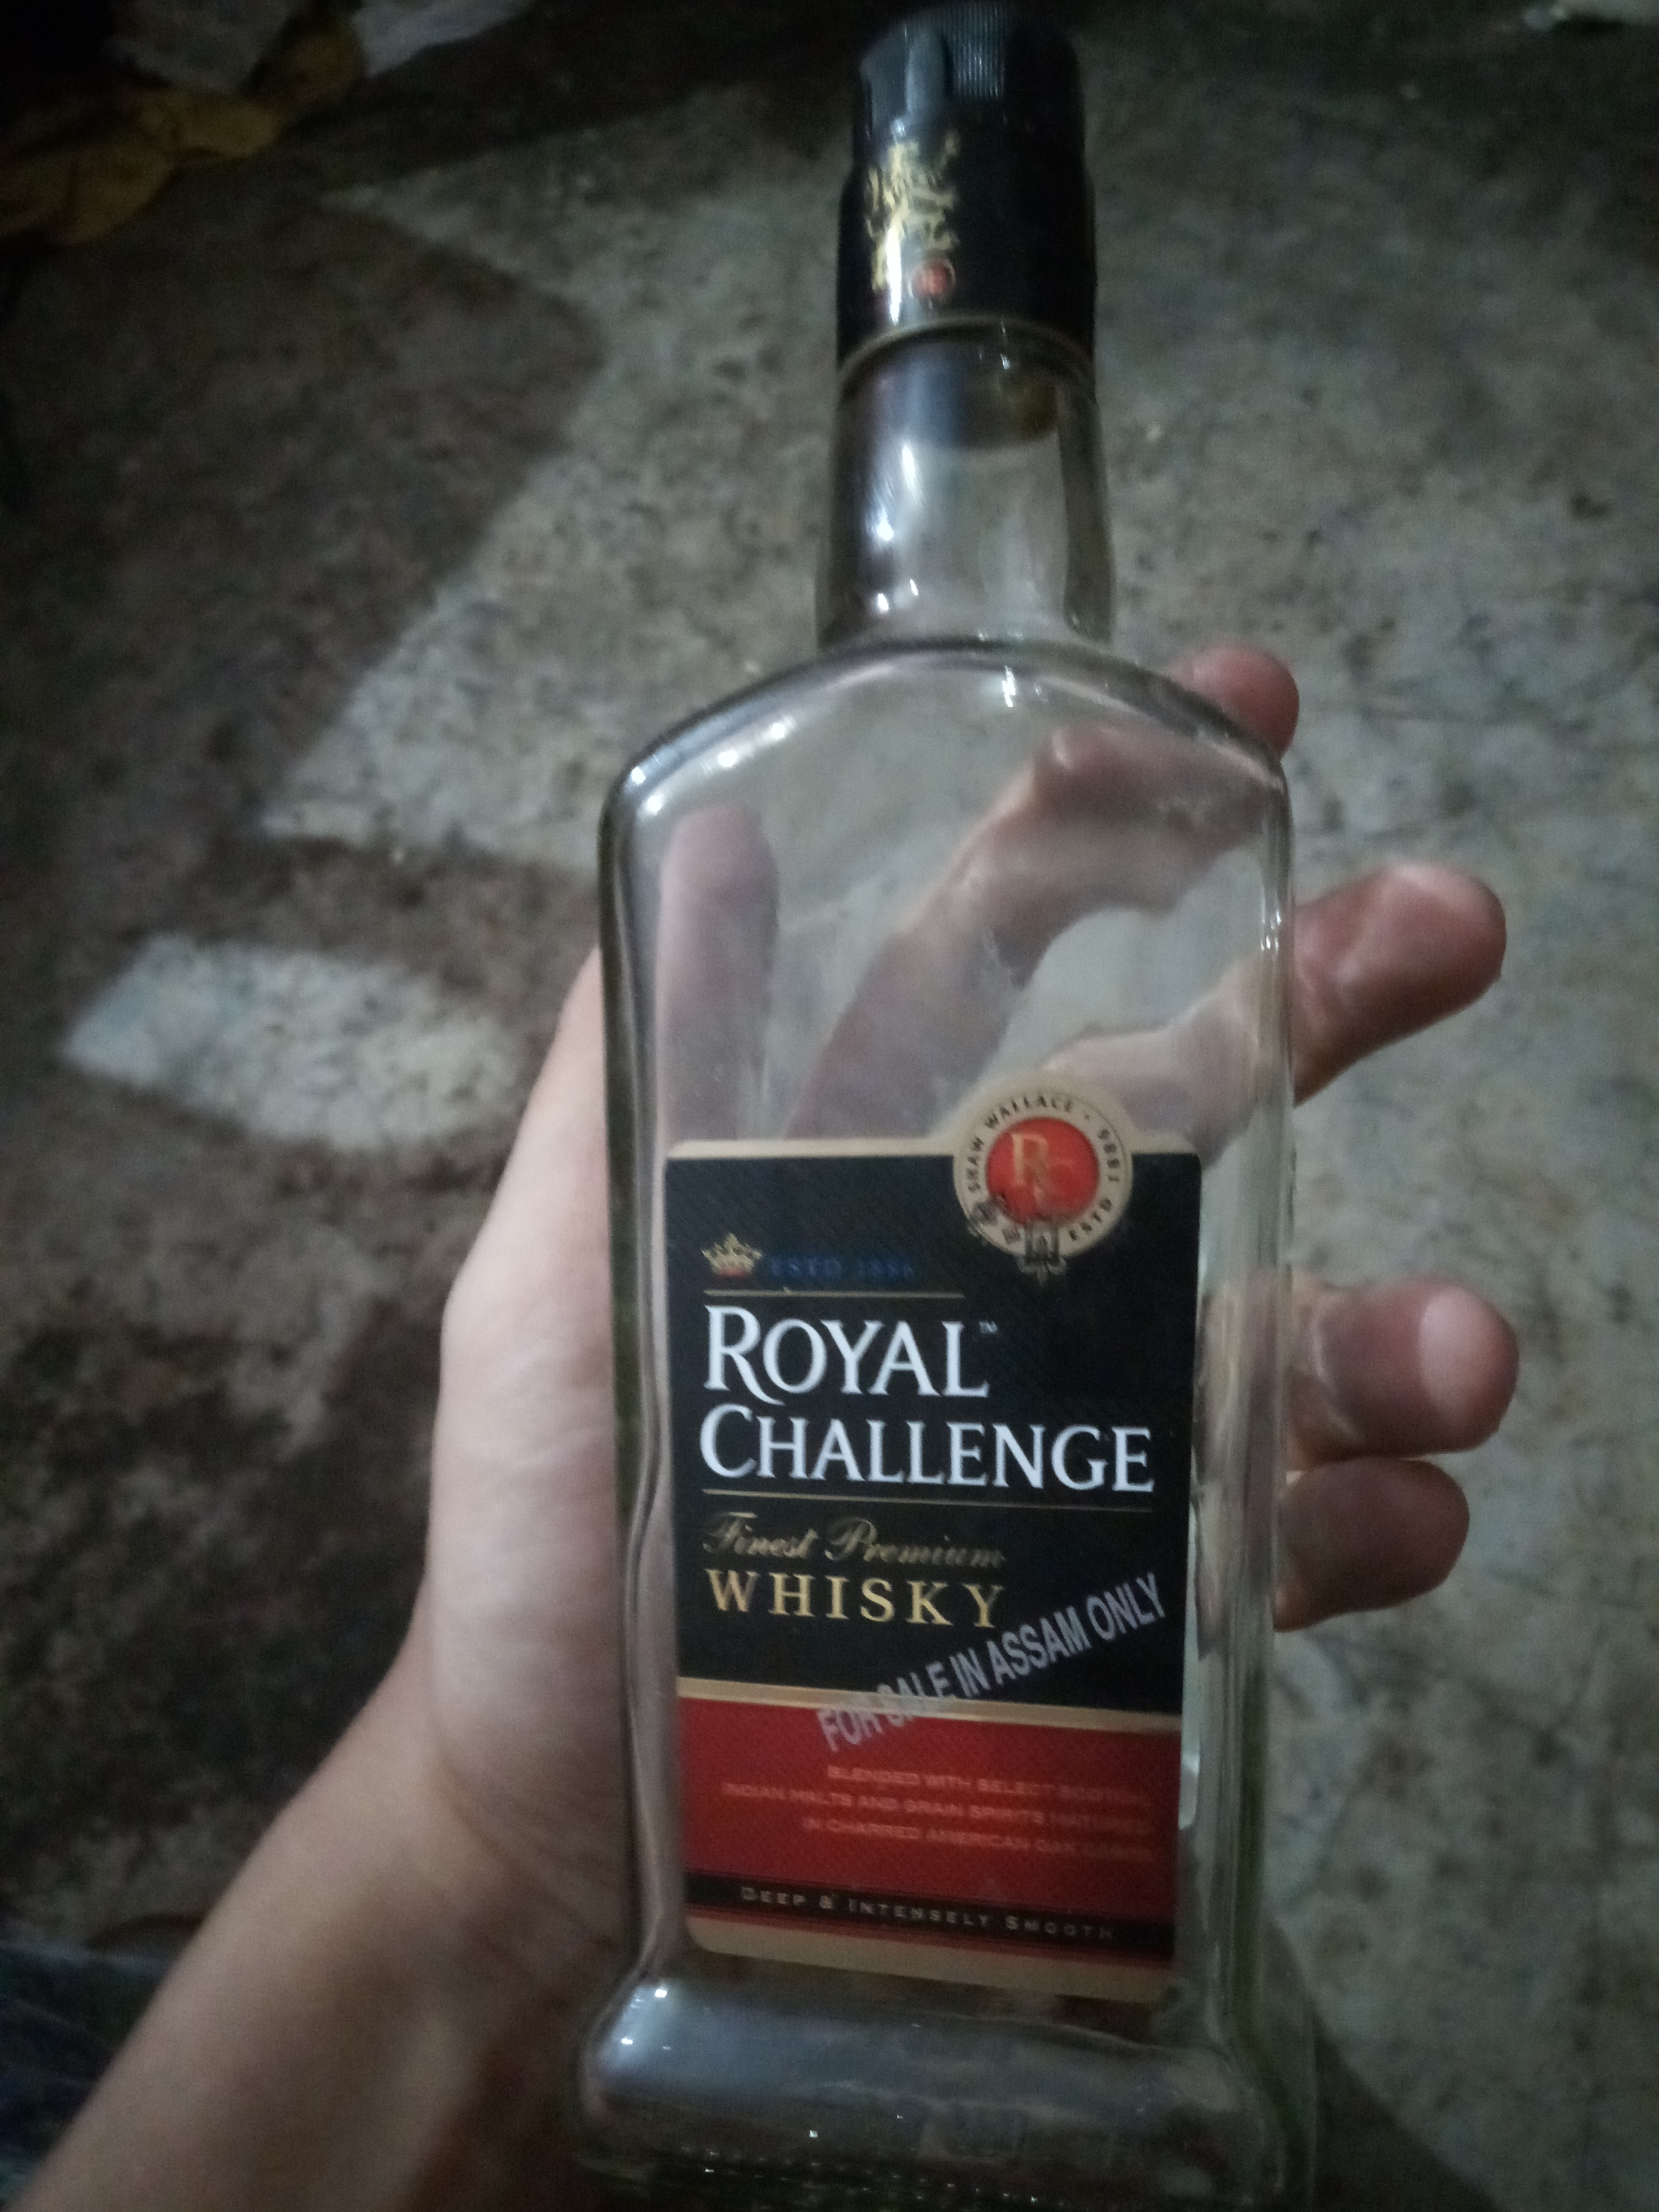glass_bottle: (525, 7, 1373, 2212)
